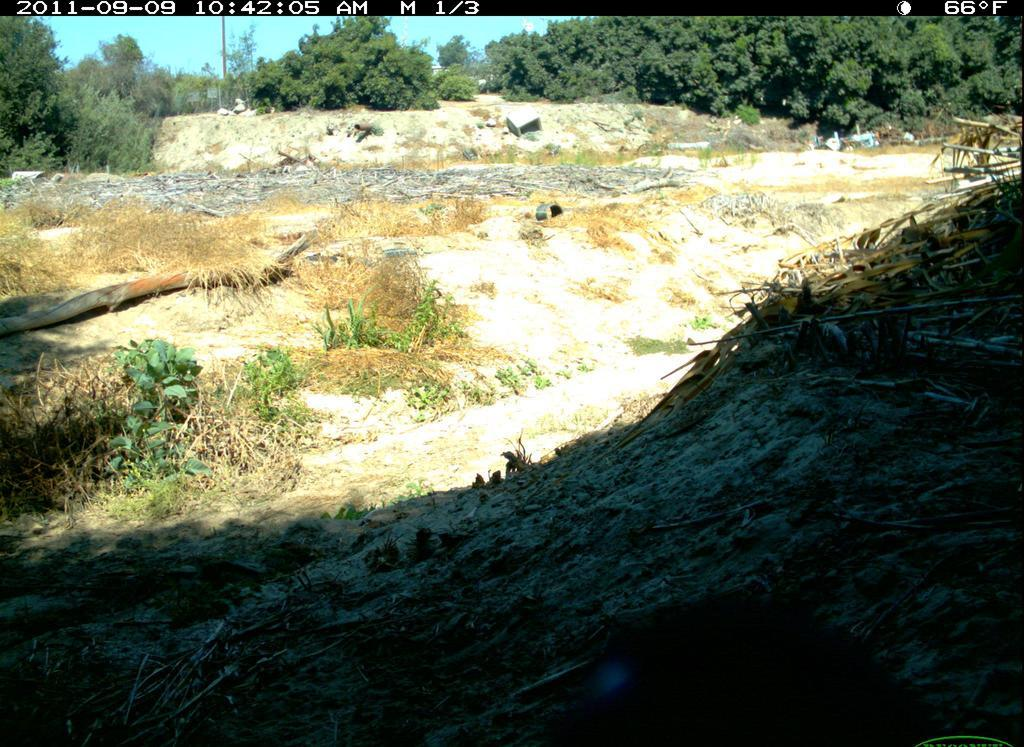bird: (532, 585, 958, 735)
